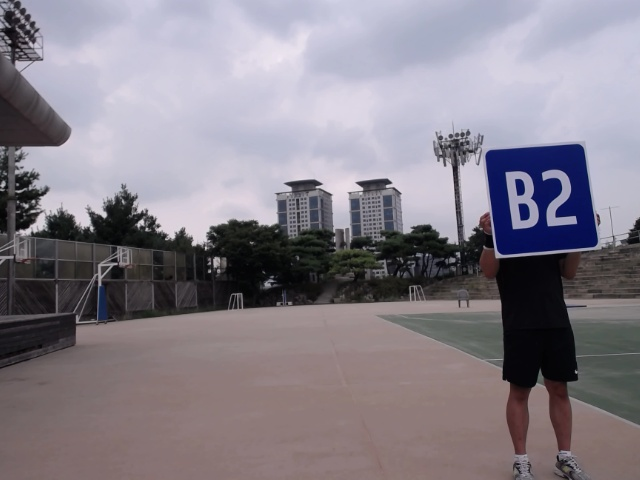delivery_b2: (483, 143, 603, 259)
